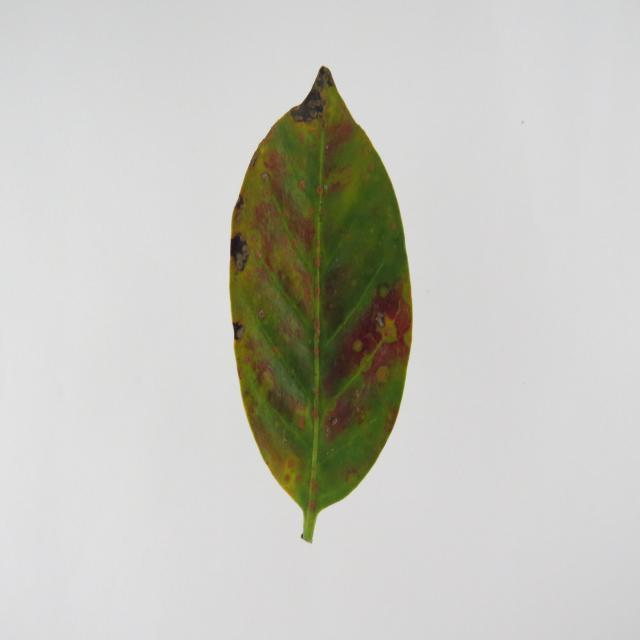DeficienciaNutricional-Fosforo: (230, 67, 411, 542)
